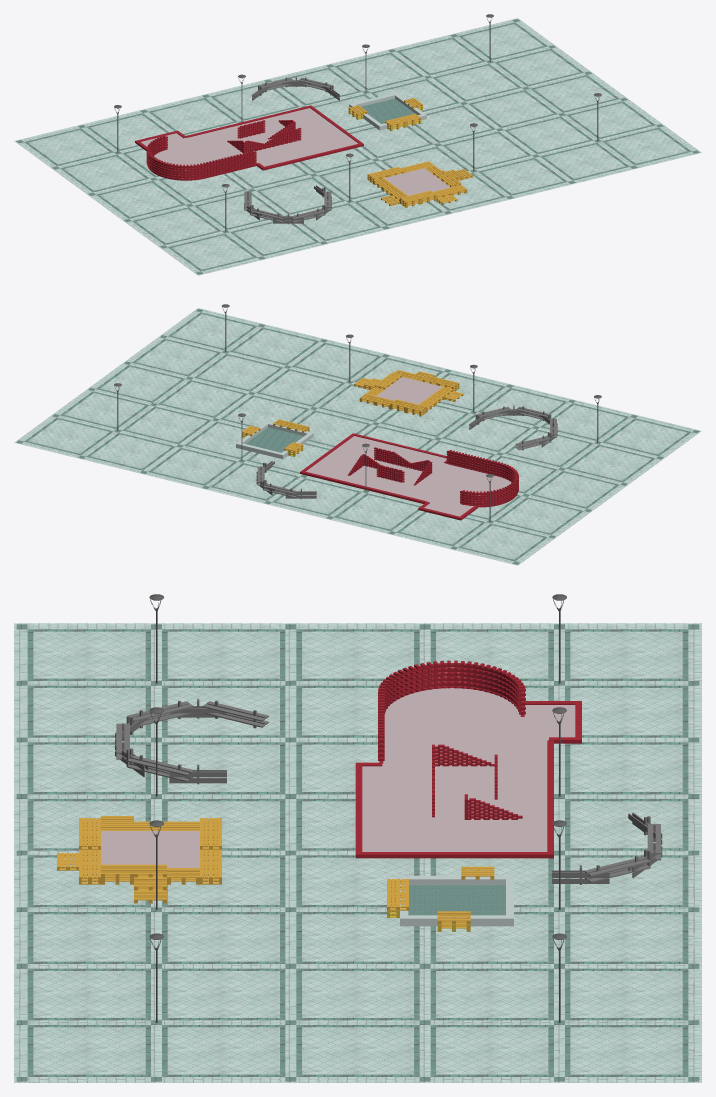
3 renders of one model, top to bottom at view 1: azimuth 30°, elevation 25°; view 2: azimuth 150°, elevation 25°; view 3: azimuth 270°, elevation 25°, orthographic. The views are drawn at different scales.
Parts seen in each view (by area): view 1: square 1 component (×37), object 1093, object 611, Shape Bender Component#1, object 37, object 613, object 612; view 2: square 1 component (×38), object 1093, object 611, Shape Bender Component#1, object 37, object 612, object 613; view 3: square 1 component (×37), object 1093, object 611, Shape Bender Component#1, object 37, object 613, object 612.
Part boxes in pixels (left/top/right/bottom): square 1 component (×37): left=16, top=22, right=691, bottom=271; object 1093: left=14, top=18, right=701, bottom=275; object 611: left=141, top=108, right=358, bottom=178; Shape Bender Component#1: left=146, top=135, right=256, bottom=180; object 37: left=384, top=168, right=450, bottom=195; object 613: left=361, top=98, right=414, bottom=123; object 612: left=349, top=93, right=426, bottom=130; square 1 component (×38): left=24, top=312, right=691, bottom=564; object 1093: left=14, top=308, right=701, bottom=565; object 611: left=306, top=436, right=511, bottom=516; Shape Bender Component#1: left=446, top=450, right=518, bottom=507; object 37: left=376, top=377, right=442, bottom=404; object 612: left=236, top=421, right=313, bottom=459; object 613: left=245, top=427, right=303, bottom=452; square 1 component (×37): left=27, top=624, right=699, bottom=1076; object 1093: left=14, top=623, right=701, bottom=1082; object 611: left=362, top=688, right=575, bottom=851; Shape Bender Component#1: left=378, top=660, right=525, bottom=763; object 37: left=101, top=831, right=199, bottom=867; object 613: left=408, top=885, right=505, bottom=915; object 612: left=400, top=875, right=513, bottom=926.
Bounding box in the file's own units: 1.8 × 0.1598 × 1.14.
Materials: 12 (4 with a texture image).
